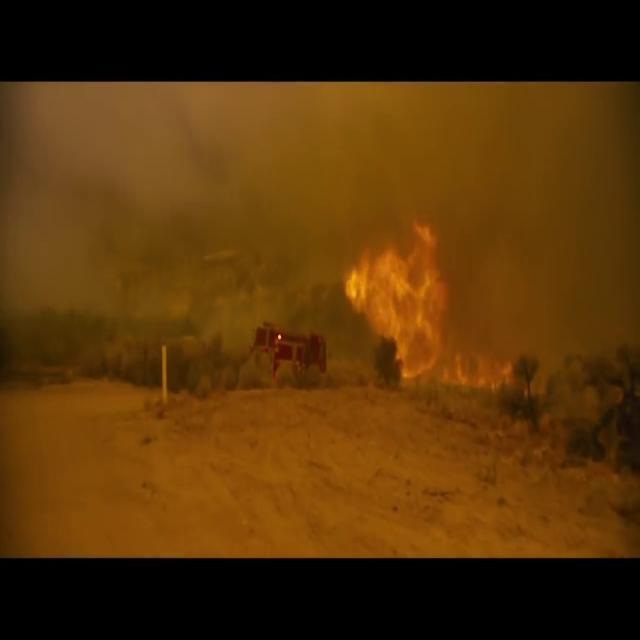Fire: (339, 211, 513, 401)
Smoke: (10, 87, 265, 270)
